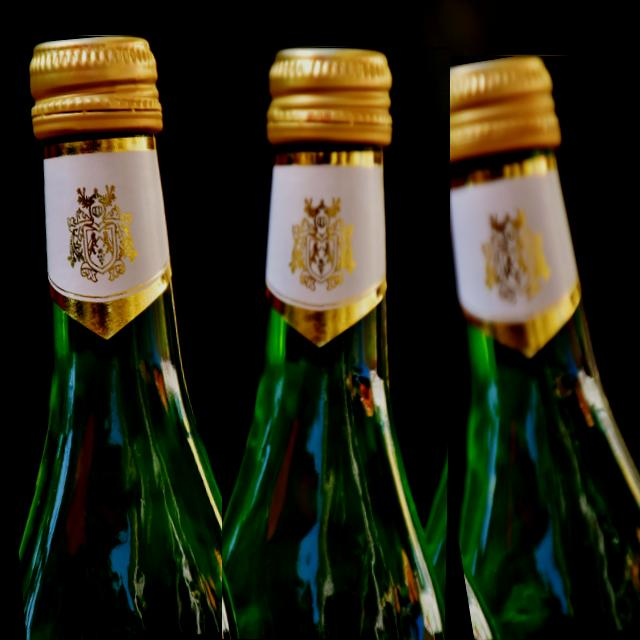Bottle: (0, 37, 242, 639), (222, 48, 449, 639), (430, 57, 639, 639)
